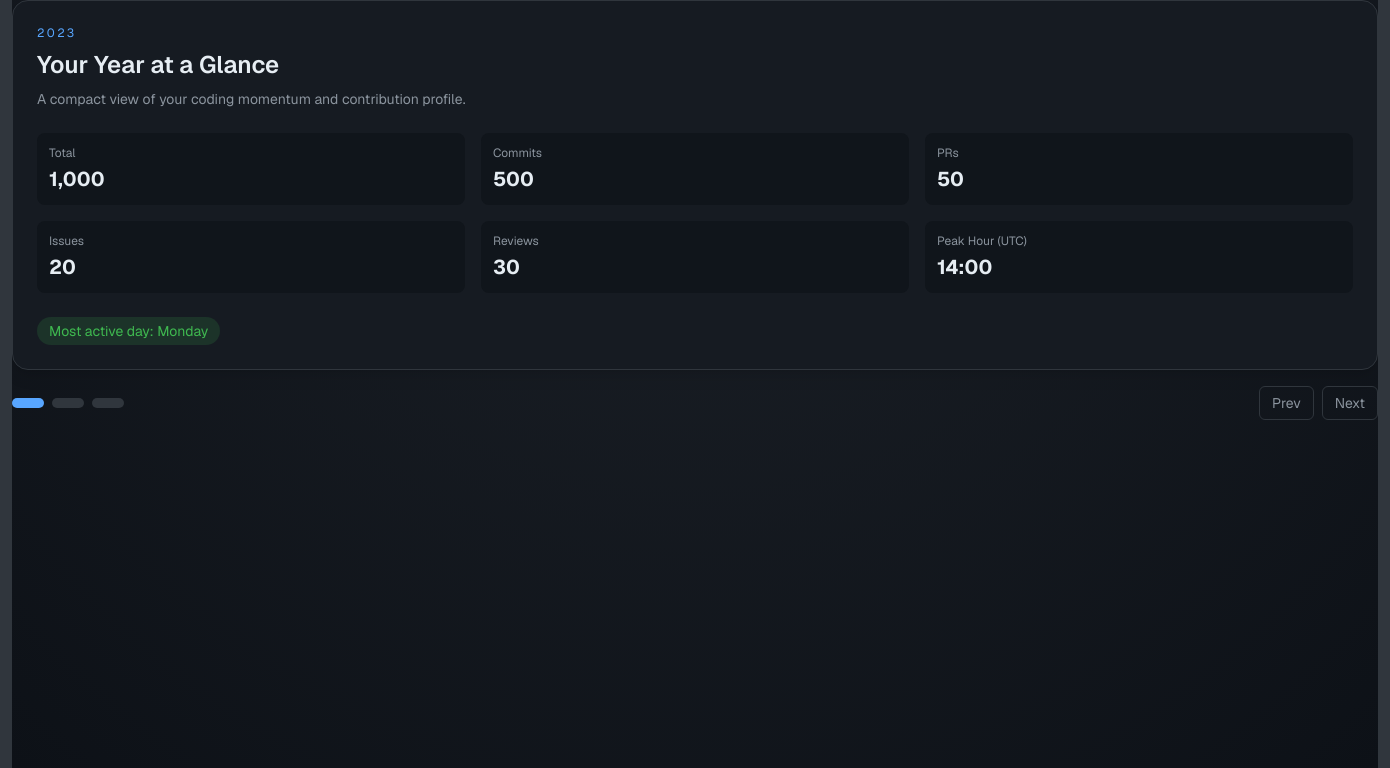
Test: YearInReviewCarousel › renders correctly without a topRepository
Click the button "Next" at (1350, 403), box [1322,386,1378,420]
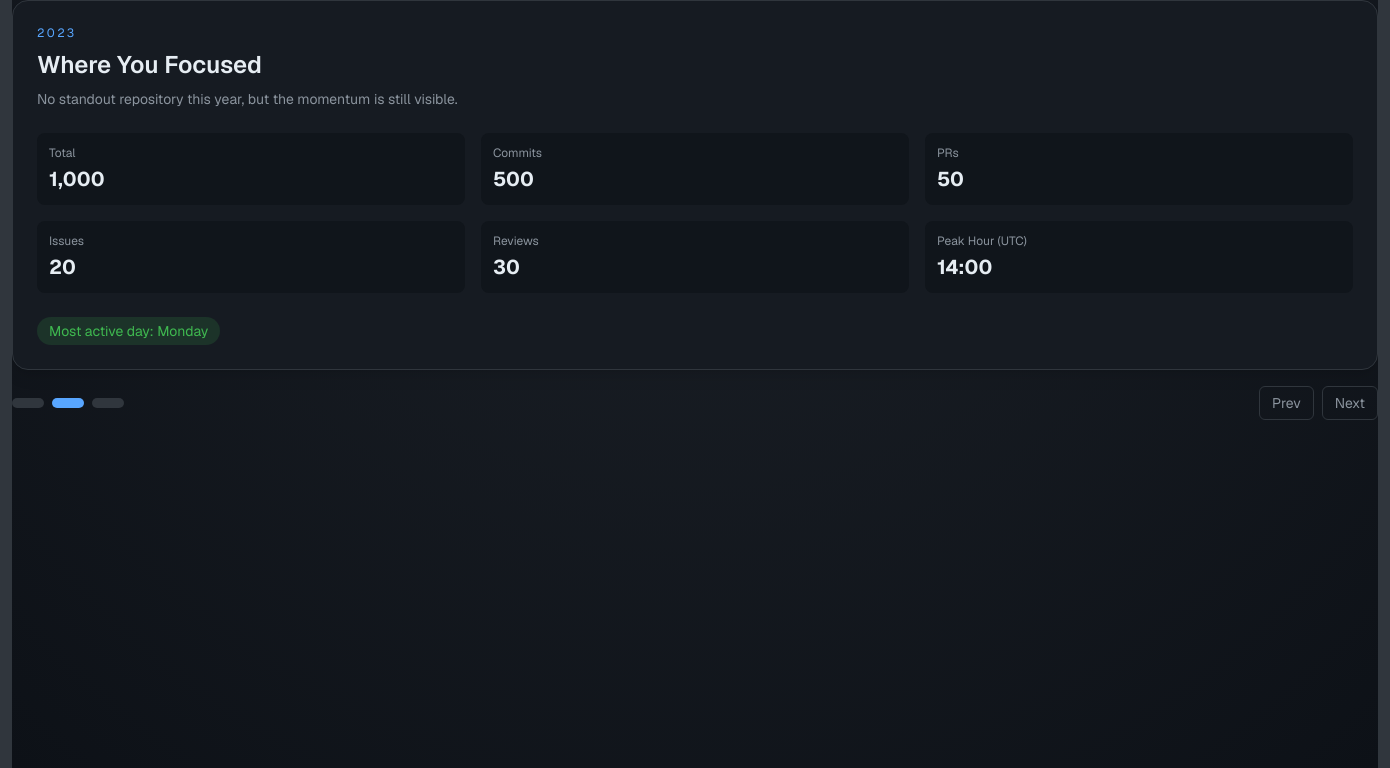
Now the heading "Where You Focused" is shown, box [37,49,262,80]
Now the text "No standout repository this year, but the momentum is still visible." is shown, box [37,90,458,108]
